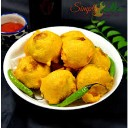bonda: (30, 30, 63, 64), (80, 65, 110, 100), (41, 70, 75, 100), (16, 57, 48, 88), (61, 38, 96, 65)
